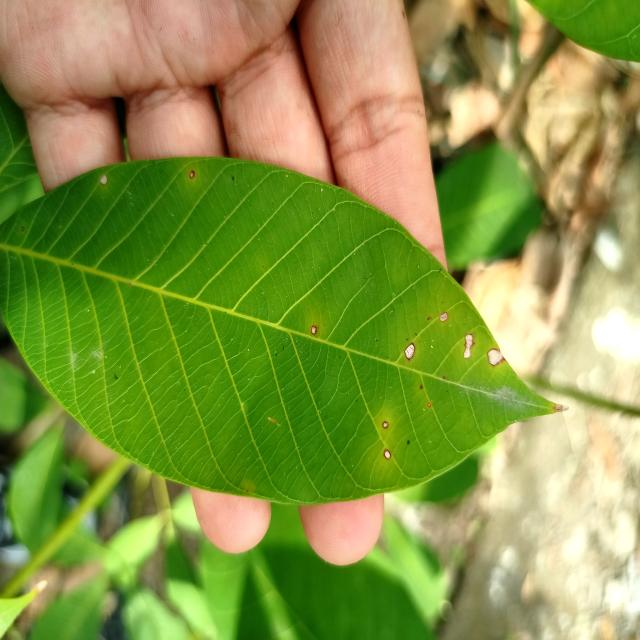Colletotrichum: (487, 348, 505, 366), (404, 342, 416, 361), (439, 312, 448, 322), (384, 449, 391, 460), (312, 325, 318, 335), (189, 170, 195, 179), (382, 422, 389, 428), (428, 402, 431, 407)
